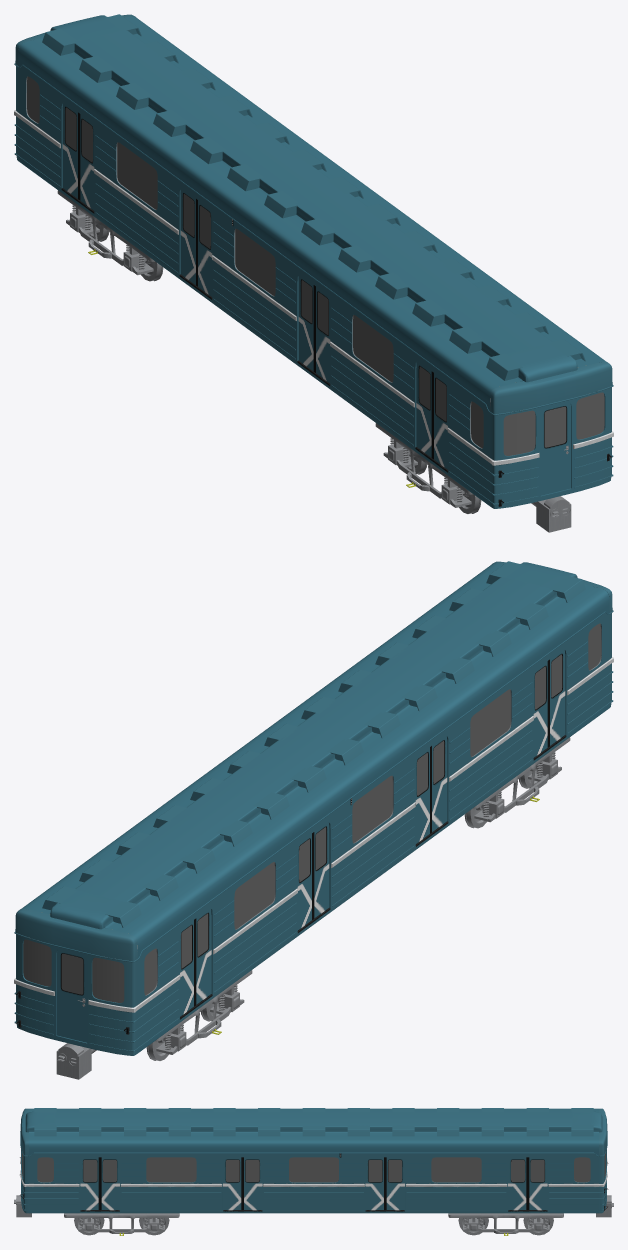
The picture shows the model from 3 angles, top to bottom: view 1: azimuth 30°, elevation 25°; view 2: azimuth 150°, elevation 25°; view 3: azimuth 270°, elevation 25°; orthographic projection. The views are drawn at different scales.
Parts seen in each view (by area): view 1: train corpus, door back right, door front right, train tail part wall door 1, train wheel 1, train wheel 2, train joint 1; view 2: train corpus, door front right, door back right, train tail part wall door 2, train wheel 2, train wheel 1, train joint 2; view 3: train corpus, door back left, door front left, train wheel 2, train wheel 1, train joint 1, train joint 2.
Part boxes in pixels (x1=…): train corpus: x1=14, y1=14, x2=613, y2=508; door back right: x1=62, y1=102, x2=432, y2=458; door front right: x1=79, y1=113, x2=447, y2=469; train tail part wall door 1: x1=540, y1=402, x2=570, y2=495; train wheel 1: x1=375, y1=423, x2=481, y2=513; train wheel 2: x1=57, y1=190, x2=163, y2=281; train joint 1: x1=531, y1=496, x2=571, y2=532; train corpus: x1=14, y1=561, x2=613, y2=1055; door front right: x1=195, y1=649, x2=565, y2=1005; door back right: x1=180, y1=660, x2=548, y2=1016; train tail part wall door 2: x1=57, y1=949, x2=87, y2=1042; train wheel 2: x1=146, y1=970, x2=252, y2=1060; train wheel 1: x1=464, y1=737, x2=570, y2=828; train joint 2: x1=56, y1=1043, x2=96, y2=1079; train corpus: x1=20, y1=1108, x2=608, y2=1213; door back left: x1=100, y1=1157, x2=547, y2=1210; door front left: x1=80, y1=1157, x2=527, y2=1210; train wheel 2: x1=448, y1=1213, x2=563, y2=1235; train wheel 1: x1=64, y1=1213, x2=179, y2=1235; train joint 1: x1=14, y1=1195, x2=31, y2=1217; train joint 2: x1=596, y1=1195, x2=613, y2=1217.
Size of the model in its own units: 295 by 1940 by 379.
